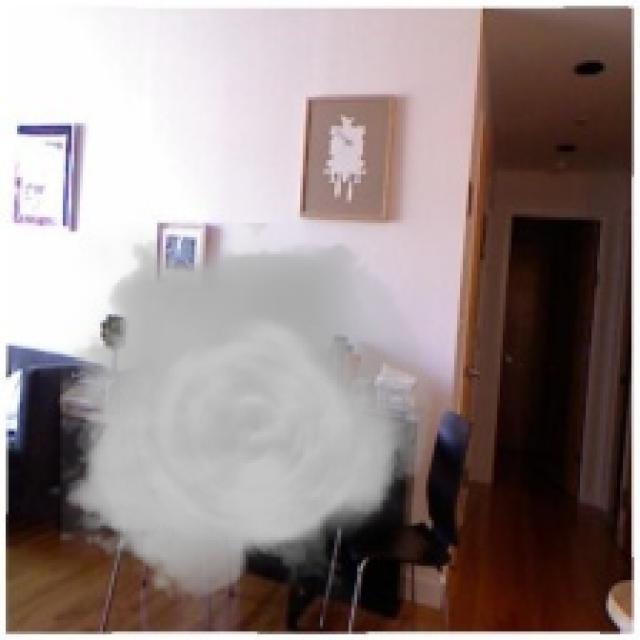Smoke: (59, 223, 434, 612)
